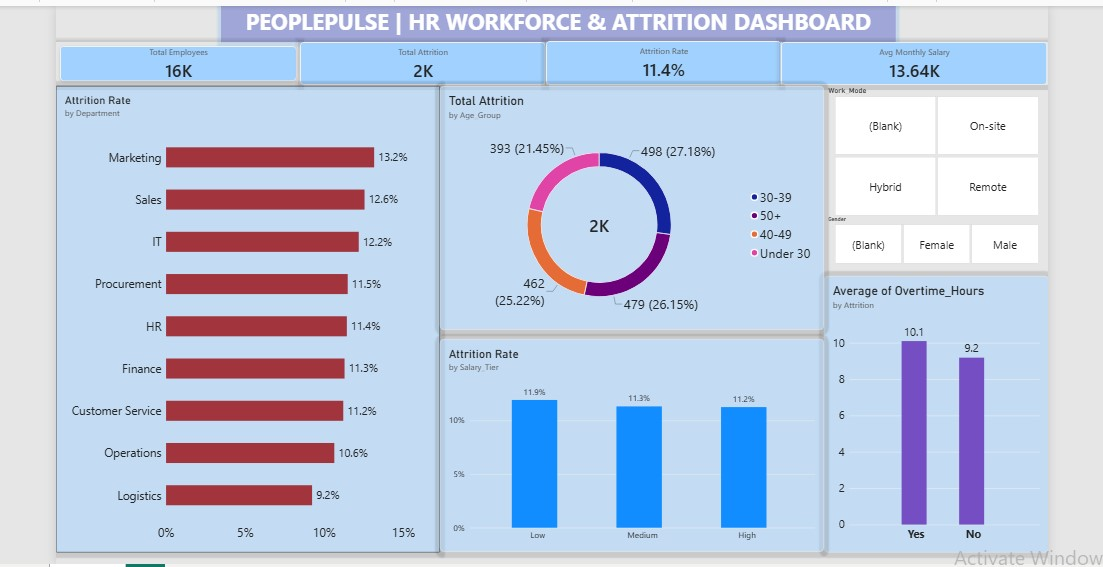

The page's visual inventory and layout, read from the dashboard file:
{"tool":"powerbi","page":{"name":"Page 1","canvas":[1920,1080],"ordinal":0},"visuals":[{"type":"textbox","box":[319.1,0,1305.9,69.7],"z":0},{"type":"cardVisual","fields":{"Data":["_Key_Measures.Total Employees"]},"box":[0,70.6,473,83.5],"z":1000},{"type":"cardVisual","fields":{"Data":["_Key_Measures.Total Attrition"]},"box":[473,70.6,475.2,83.5],"z":2000},{"type":"cardVisual","fields":{"Data":["_Key_Measures.Attrition Rate"]},"box":[948.2,68.5,455.9,85.6],"z":3000},{"type":"cardVisual","fields":{"Data":["_Key_Measures.Avg Monthly Salary"]},"box":[1404.1,70.6,515.9,83.5],"z":4000},{"type":"clusteredBarChart","fields":{"Category":["clean data.Department"],"Y":["_Key_Measures.Attrition Rate"]},"box":[0,154.1,742.7,903.3],"z":5000},{"type":"clusteredColumnChart","fields":{"Category":["clean data.Attrition"],"Y":["Avg(clean data.Overtime_Hours)"]},"box":[1485.5,522.3,434.5,535.1],"z":6000},{"type":"donutChart","fields":{"Category":["clean data.Age_Group"],"Y":["_Key_Measures.Total Attrition"]},"box":[743.2,154.8,743.2,472.3],"z":7000},{"type":"clusteredColumnChart","fields":{"Category":["clean data.Salary_Tier"],"Y":["_Key_Measures.Attrition Rate"]},"box":[743.2,644.5,743.2,412.3],"z":8000},{"type":"slicer","fields":{"Values":["clean data.Work_Mode"]},"box":[1485.5,154.1,434.5,252.6],"z":9000},{"type":"slicer","fields":{"Values":["clean data.Gender"]},"box":[1485.5,406.7,434.5,94.2],"z":10000}]}

Visuals, with their boxes on the page's 1920x1080 design canvas (x1, y1, x2, y2). These are canvas units, not pixel positions in the 1103x567 screenshot, which may show the page scaled, cropped or inside an application window:
textbox: l=319, t=0, r=1625, b=70
cardVisual - _Key_Measures.Total Employees: l=0, t=71, r=473, b=154
cardVisual - _Key_Measures.Total Attrition: l=473, t=71, r=948, b=154
cardVisual - _Key_Measures.Attrition Rate: l=948, t=68, r=1404, b=154
cardVisual - _Key_Measures.Avg Monthly Salary: l=1404, t=71, r=1920, b=154
clusteredBarChart - clean data.Department x _Key_Measures.Attrition Rate: l=0, t=154, r=743, b=1057
clusteredColumnChart - clean data.Attrition x Avg(clean data.Overtime_Hours): l=1486, t=522, r=1920, b=1057
donutChart - clean data.Age_Group x _Key_Measures.Total Attrition: l=743, t=155, r=1486, b=627
clusteredColumnChart - clean data.Salary_Tier x _Key_Measures.Attrition Rate: l=743, t=644, r=1486, b=1057
slicer - clean data.Work_Mode: l=1486, t=154, r=1920, b=407
slicer - clean data.Gender: l=1486, t=407, r=1920, b=501
